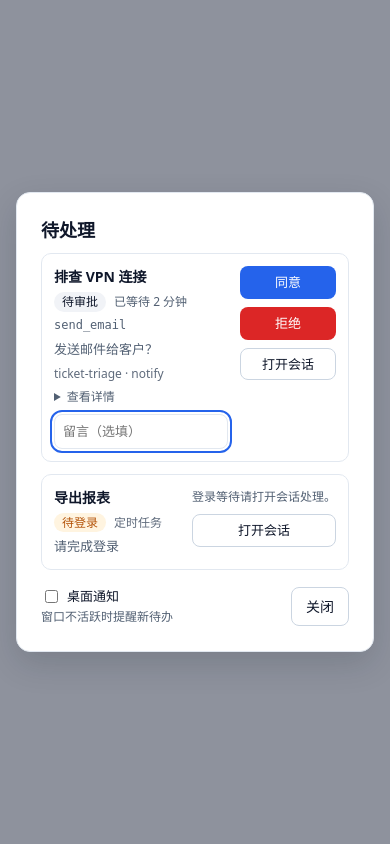
Test: PendingCenter › shows a row error when the decision fails
Click the button "同意".
click(288, 282)  # box x1=240 y1=266 x2=336 y2=299
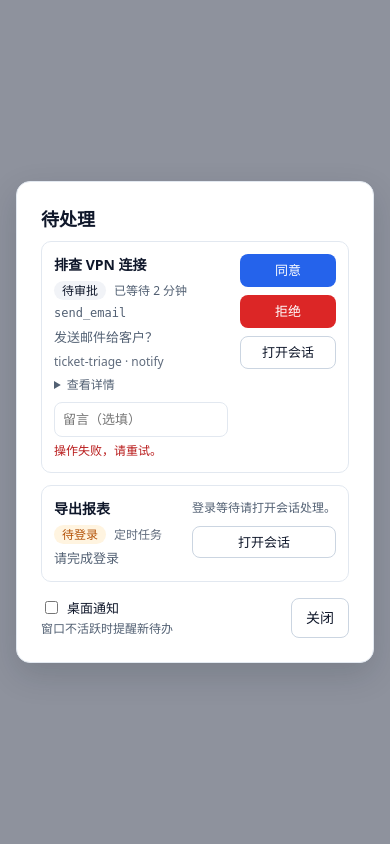
Expected: the message "操作失败，请重试。" is shown, x1=54 y1=442 x2=162 y2=459
